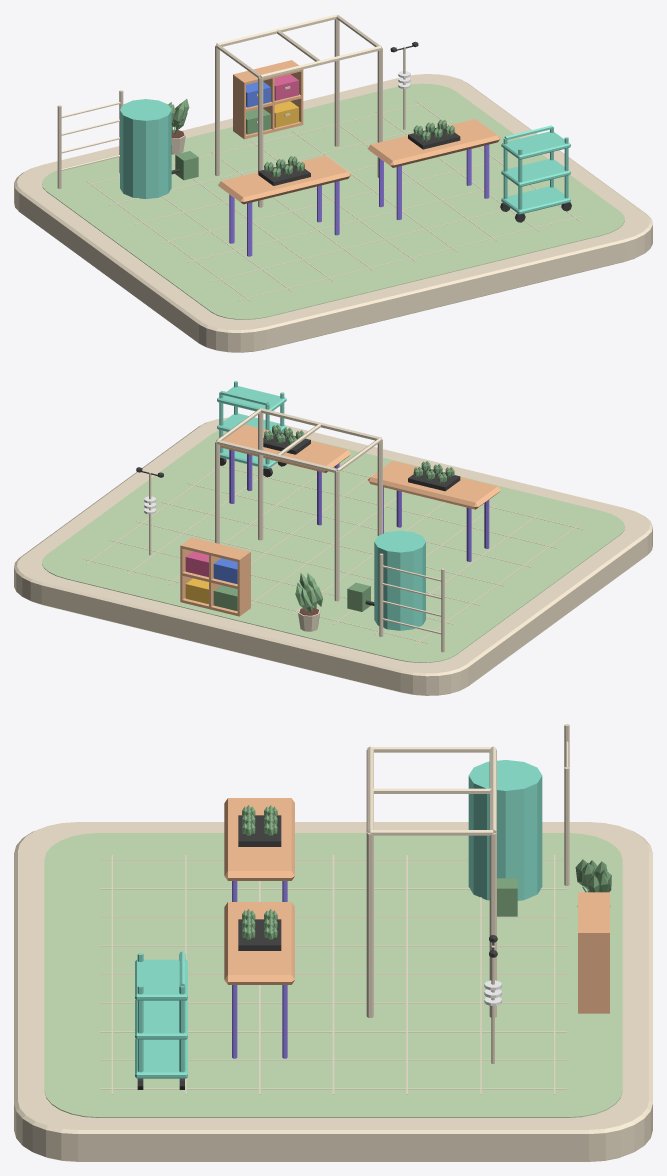
The model's file is room.fbx.
3 renders of one model, top to bottom at view 1: azimuth 30°, elevation 25°; view 2: azimuth 150°, elevation 25°; view 3: azimuth 270°, elevation 25°, orthographic. The views are drawn at different scales.
Parts seen in each view (by area): view 1: COM-02 Floor Surface, COM-01 Rounded Base Direct, Water tank, Rounded table top.001, Rounded table top, Tray.004, Tray.002, Tray.003, Pot, Cubbies divider, Post.003, Roof rail (+10 smaller); view 2: COM-02 Floor Surface, COM-01 Rounded Base Direct, Water tank, Rounded table top, Rounded table top.001, Pot, Tray.004, Cubbies shelf.002, Cubbies divider, Post.001, Post.002, Roof rail.001 (+10 smaller); view 3: COM-02 Floor Surface, COM-01 Rounded Base Direct, Water tank, Rounded table top, Rounded table top.001, Cubbies divider.002, Tray.004, Tray.002, Tray.003, Post.002, Cubbies shelf.002, Post.003 (+15 smaller).
Boxes of the visible parts, x1,y1,x2,y2 form: COM-02 Floor Surface: (42, 83, 624, 319); COM-01 Rounded Base Direct: (14, 74, 652, 352); Water tank: (120, 99, 171, 198); Rounded table top.001: (367, 119, 500, 167); Rounded table top: (218, 155, 351, 204); Tray.004: (501, 131, 570, 159); Tray.002: (501, 186, 570, 214); Tray.003: (501, 159, 570, 186); Pot: (168, 99, 189, 154); Cubbies divider: (233, 75, 245, 139); Post.003: (334, 19, 339, 146); Roof rail: (260, 46, 381, 79); COM-02 Floor Surface: (42, 430, 624, 662); COM-01 Rounded Base Direct: (14, 417, 652, 695); Water tank: (374, 530, 425, 630); Rounded table top: (367, 460, 500, 509); Rounded table top.001: (220, 424, 350, 472); Pot: (295, 573, 322, 631); Tray.004: (217, 386, 286, 411); Cubbies shelf.002: (180, 537, 250, 561); Cubbies divider: (237, 552, 250, 616); Post.001: (334, 471, 339, 601); Post.002: (258, 412, 263, 540); Roof rail.001: (216, 439, 337, 472); COM-02 Floor Surface: (44, 833, 622, 1117); COM-01 Rounded Base Direct: (14, 822, 652, 1161); Water tank: (468, 760, 542, 900); Rounded table top: (224, 798, 294, 880); Rounded table top.001: (224, 902, 294, 984); Cubbies divider.002: (578, 933, 609, 1013); Tray.004: (135, 959, 187, 1000); Tray.002: (135, 1039, 187, 1078); Tray.003: (135, 1000, 187, 1039); Post.002: (366, 832, 373, 1017); Cubbies shelf.002: (578, 892, 609, 933); Post.003: (489, 832, 496, 1017).
Size of the model in its own units: 600 by 198 by 520.
